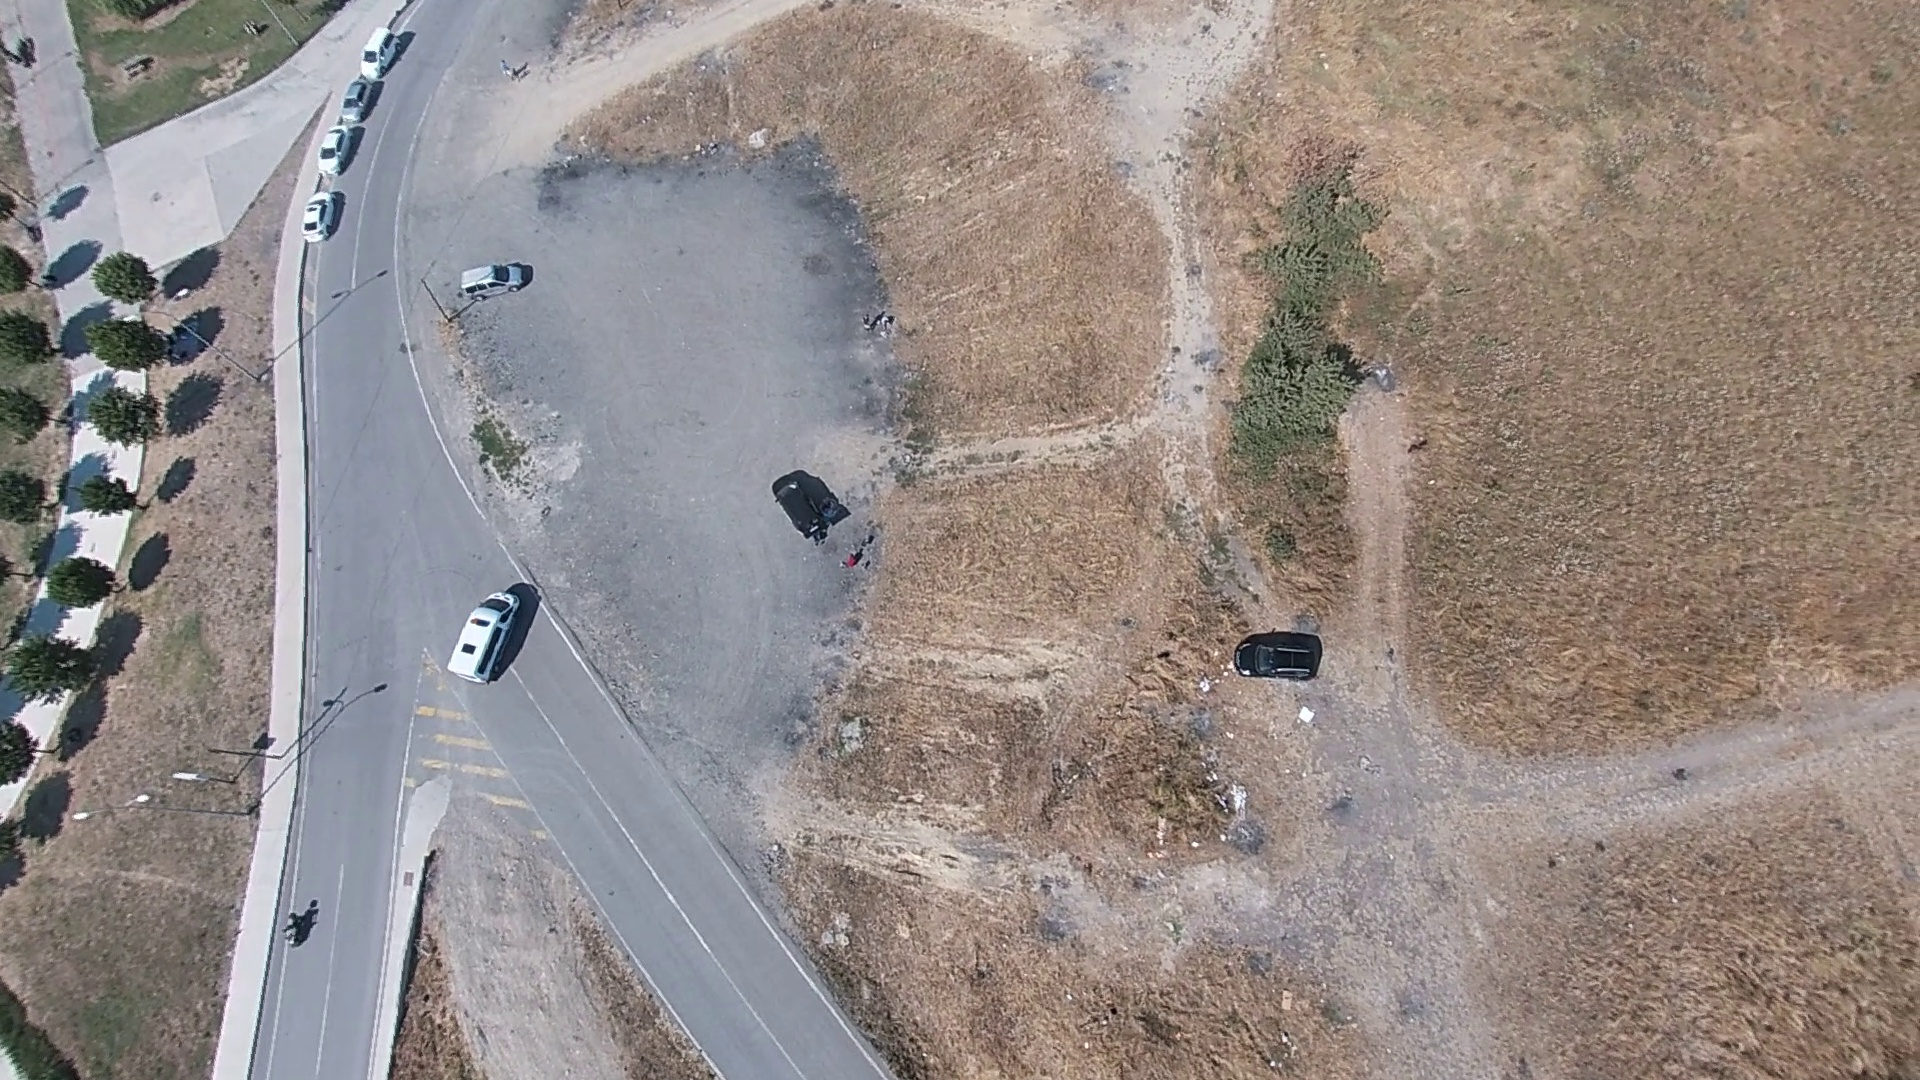arac: (448, 589, 527, 687), (770, 467, 850, 545), (1230, 629, 1321, 682), (459, 260, 530, 298), (315, 122, 359, 177), (360, 25, 402, 79), (302, 189, 340, 248), (337, 72, 374, 122)
insan: (497, 57, 514, 82), (846, 552, 861, 568), (861, 313, 871, 331)
